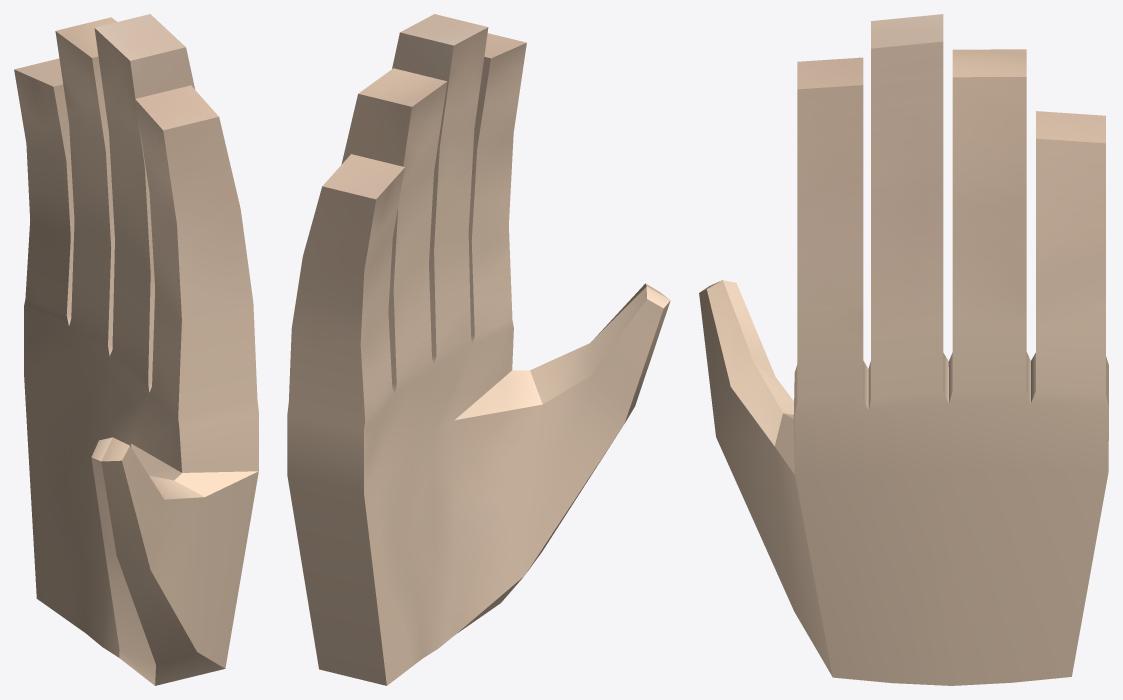
File: hand.fbx
The picture shows the model from 3 angles, left to right: view 1: azimuth 30°, elevation 25°; view 2: azimuth 150°, elevation 25°; view 3: azimuth 270°, elevation 25°; orthographic projection. The views are drawn at different scales.
Visible parts, largest first — view 1: Cube; view 2: Cube; view 3: Cube.
Boxes of the visible parts, <box> form: Cube: <box>14,14,258,685</box>; Cube: <box>287,14,670,685</box>; Cube: <box>699,14,1108,685</box>.
Bounding box in the file's own units: 154 × 444 × 261.
1 material, 1 textured.
